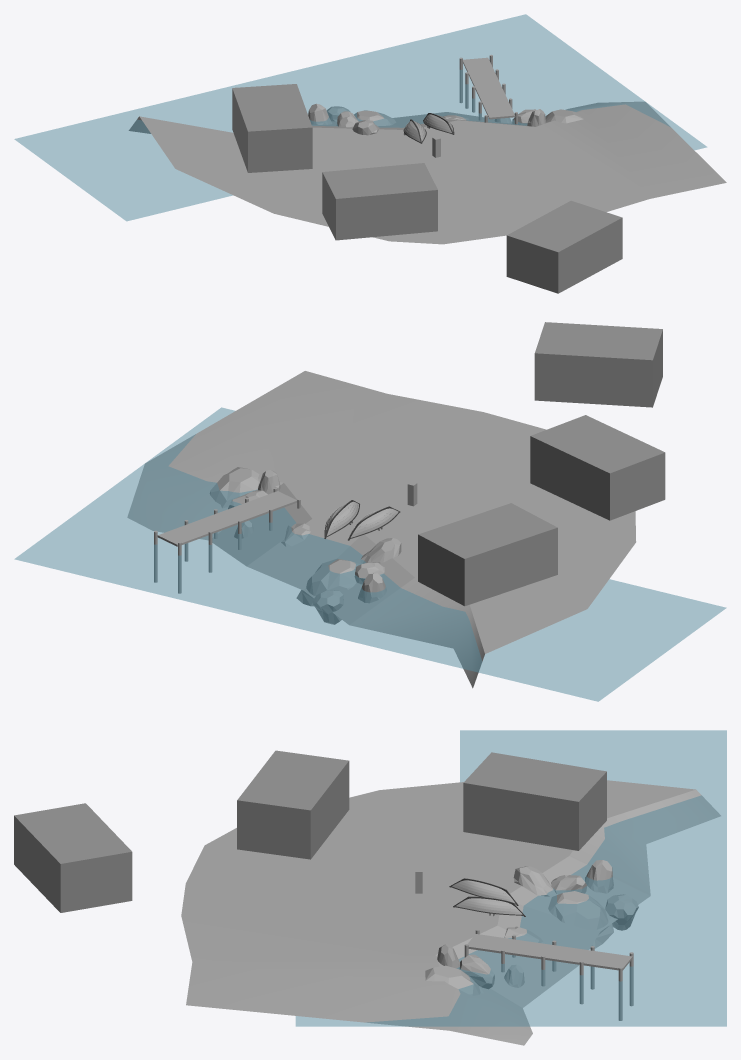
Rendered from shit.fbx.
The picture shows the model from 3 angles, top to bottom: view 1: azimuth 30°, elevation 25°; view 2: azimuth 150°, elevation 25°; view 3: azimuth 270°, elevation 25°; orthographic projection. The views are drawn at different scales.
Visible parts, largest first — view 1: pCube126; view 2: pCube126; view 3: pCube126.
Part boxes in pixels (x1=…): pCube126: x1=14, y1=14, x2=726, y2=293; pCube126: x1=14, y1=322, x2=726, y2=701; pCube126: x1=14, y1=730, x2=726, y2=1045.
Bounding box in the file's own units: 4547 × 4601 × 680.
